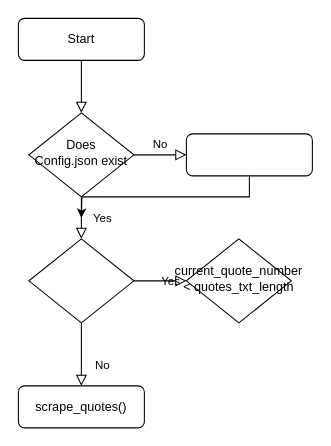
The diagram is 331 pixels wide and 446 high, and some of its shapes have lost their labels. The centre of each missing label's shape, as x and y in pixels:
"Does quotes_txt_file_exist = True" belongs at (x=81, y=280).
"make_configs()" belongs at (x=248, y=154).
